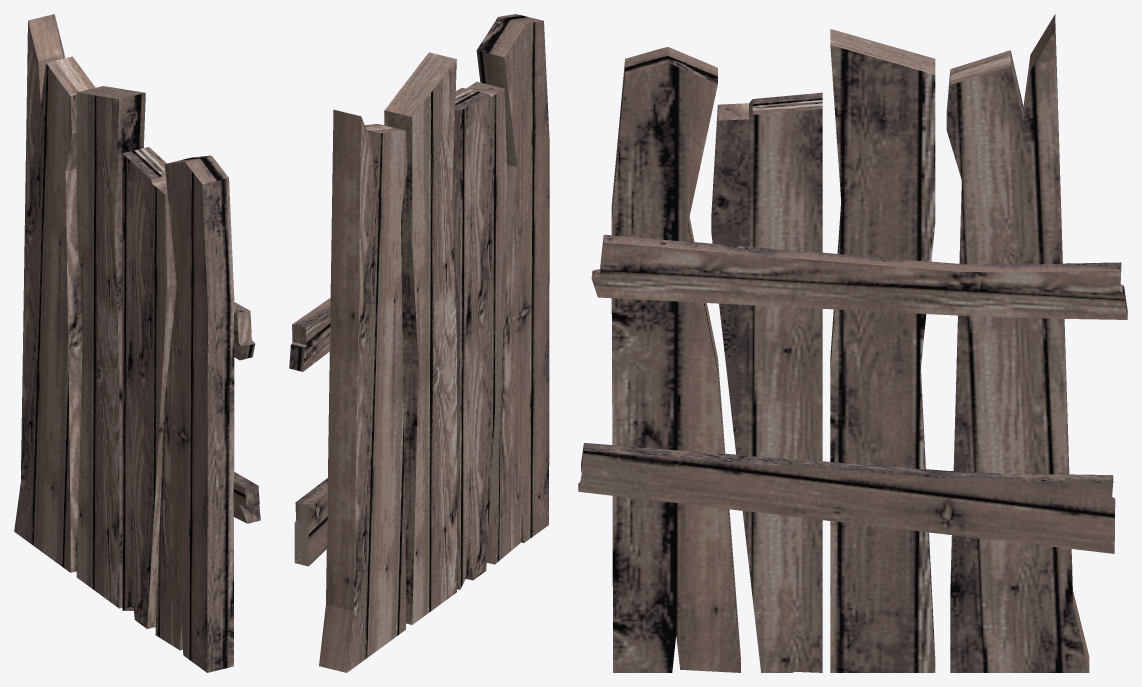
The model's file is Fence3.fbx.
3 renders of one model, left to right at view 1: azimuth 30°, elevation 25°; view 2: azimuth 150°, elevation 25°; view 3: azimuth 270°, elevation 25°, orthographic. The views are drawn at different scales.
Parts seen in each view (by area): view 1: Fence_03; view 2: Fence_03; view 3: Fence_03.
Boxes of the visible parts, x1=… form: Fence_03: x1=14, y1=14, x2=260, y2=672; Fence_03: x1=289, y1=14, x2=549, y2=672; Fence_03: x1=578, y1=14, x2=1127, y2=672.
Bounding box in the file's own units: 17.86 × 226 × 175.
Materials: 1 (1 with a texture image).
